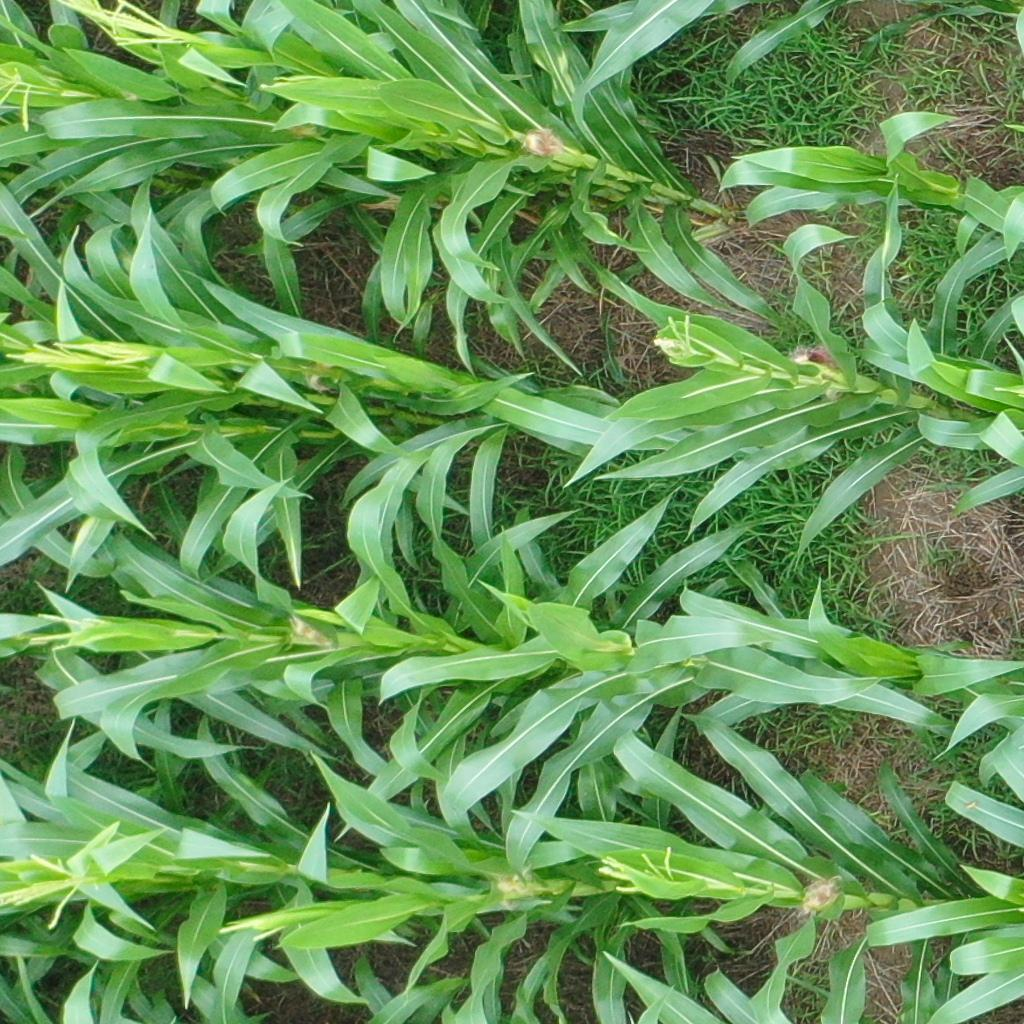Tassel: (1, 852, 102, 933), (54, 1, 192, 48), (595, 839, 684, 900), (1, 326, 97, 372), (20, 609, 111, 655), (53, 331, 159, 367), (1, 61, 50, 131), (648, 309, 701, 369), (210, 914, 284, 946)
